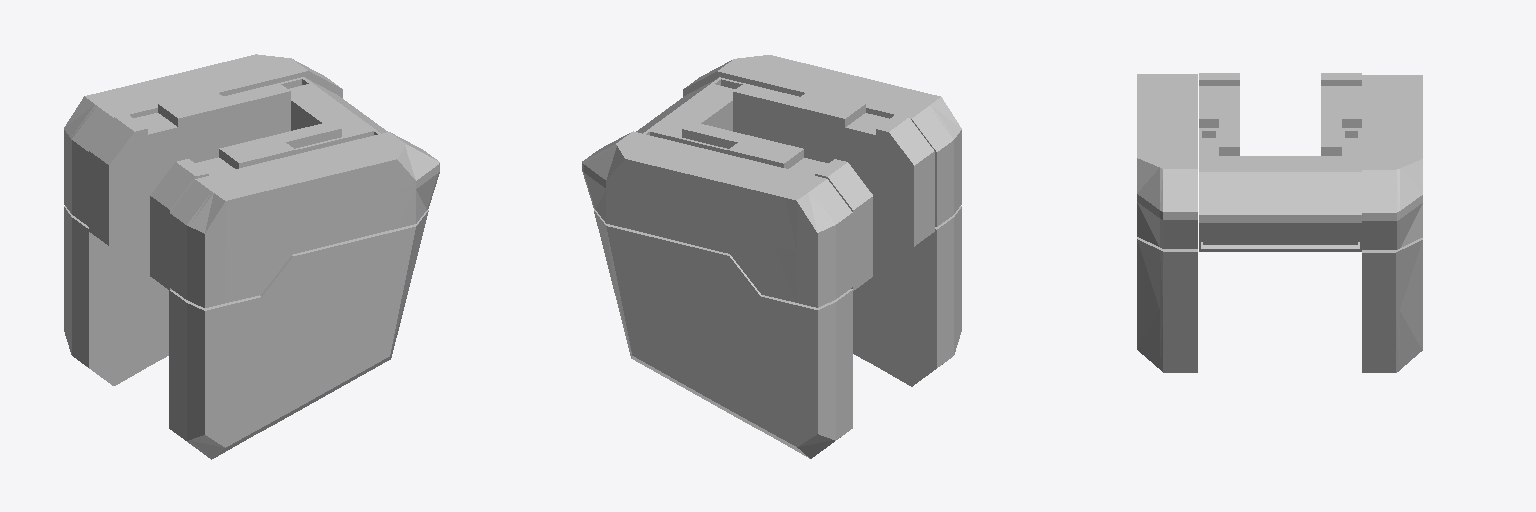
Rendered from lshouder.obj.
The picture shows the model from 3 angles: view 1: azimuth 30°, elevation 25°; view 2: azimuth 150°, elevation 25°; view 3: azimuth 270°, elevation 25°; orthographic projection.
Bounding box in the file's own units: 2.95 × 3 × 2.85.